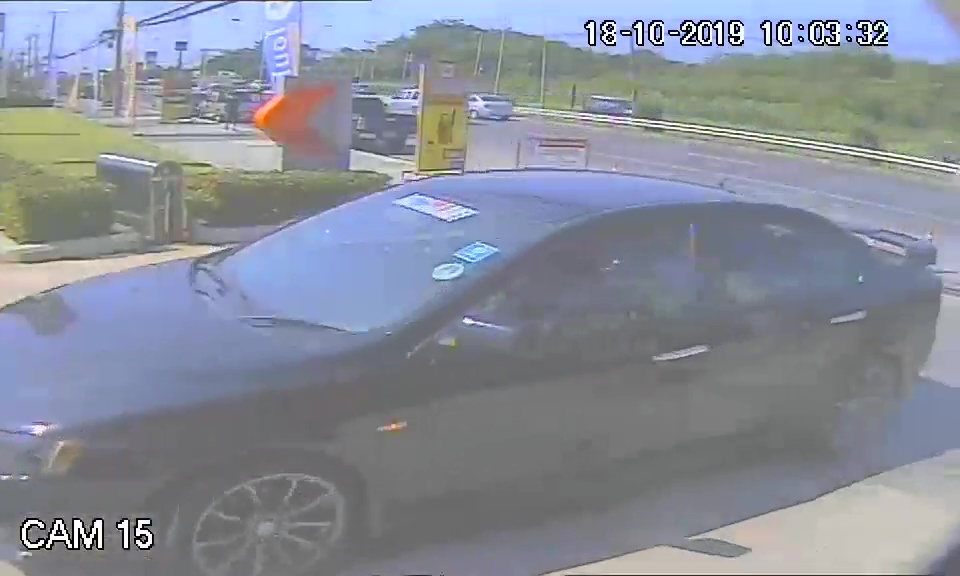sedan: (1, 174, 720, 576)
